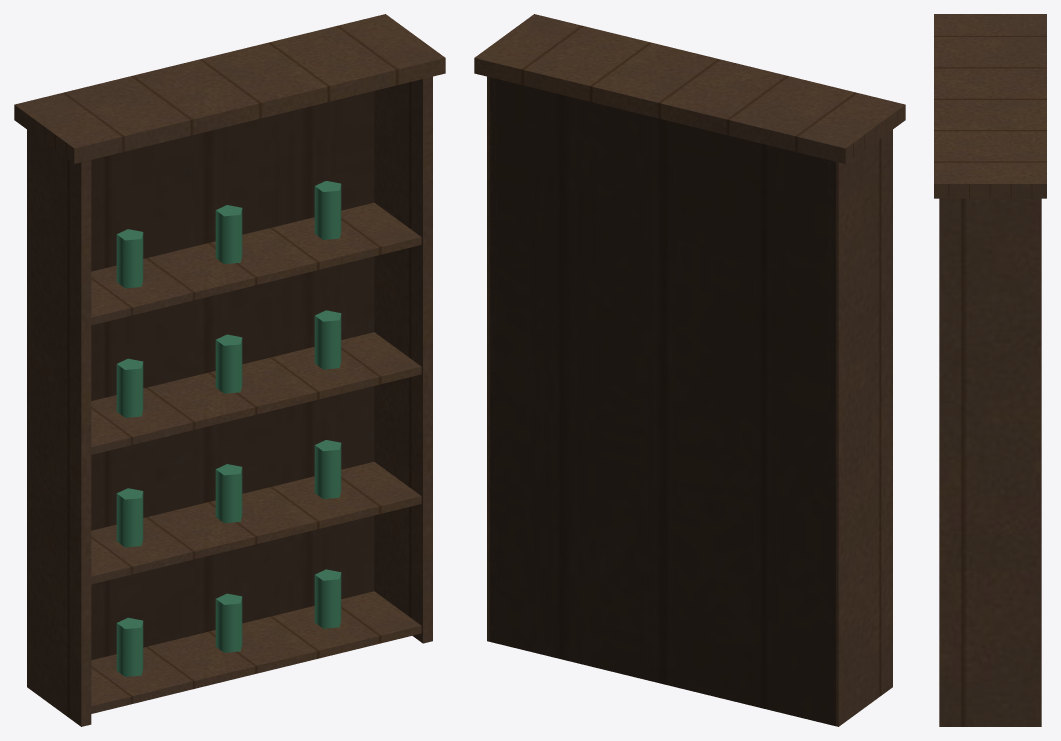
The model's file is apothecary_shelf_lod2.glb.
The picture shows the model from 3 angles, left to right: view 1: azimuth 30°, elevation 25°; view 2: azimuth 150°, elevation 25°; view 3: azimuth 270°, elevation 25°; orthographic projection. The views are drawn at different scales.
Parts seen in each view (by area): view 1: apothecary_shelf; view 2: apothecary_shelf; view 3: apothecary_shelf.
Boxes of the visible parts, x1=… form: apothecary_shelf: x1=14, y1=14, x2=445, y2=726; apothecary_shelf: x1=474, y1=14, x2=905, y2=726; apothecary_shelf: x1=934, y1=14, x2=1046, y2=726.
Size of the model in its own units: 1.5 by 2.25 by 0.42.
Materials: 1 (1 with a texture image).
